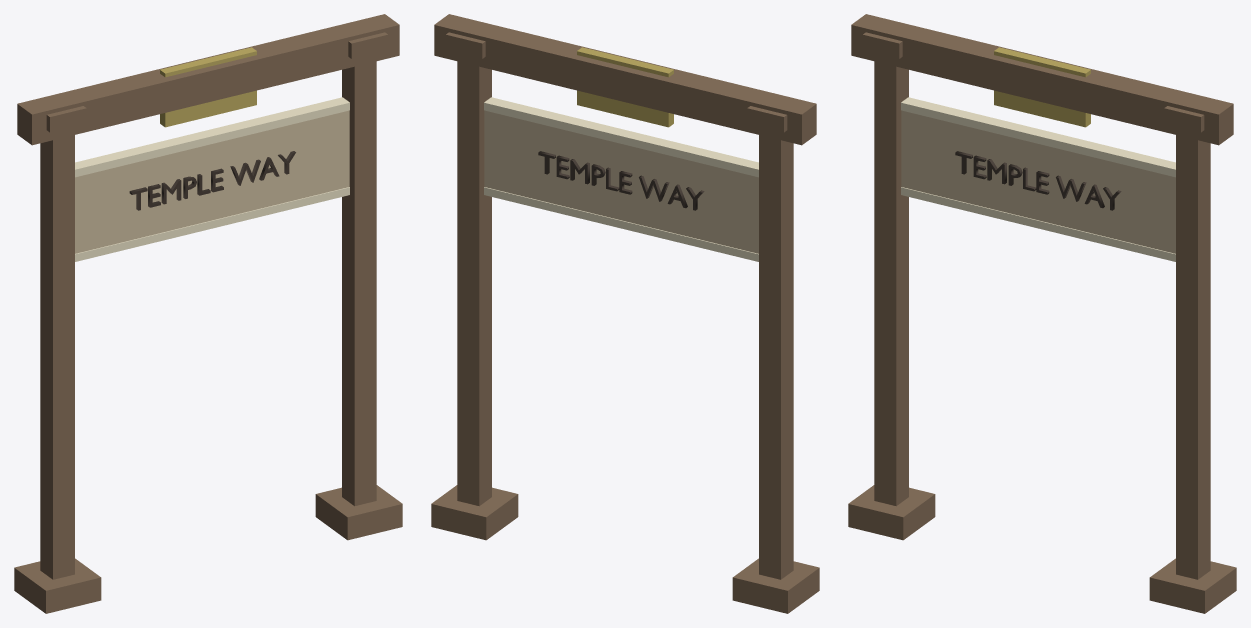
Rendered from prop_ward_temple.glb.
3 views of the same model, side by side, from view 1: azimuth 30°, elevation 25°; view 2: azimuth 150°, elevation 25°; view 3: azimuth 330°, elevation 25° (orthographic).
Parts seen in each view (by area): view 1: prop_ward_sign; view 2: prop_ward_sign; view 3: prop_ward_sign.
Boxes of the visible parts, box(x1,y1,x2,y2) form: prop_ward_sign: box(14, 14, 402, 613); prop_ward_sign: box(431, 14, 819, 613); prop_ward_sign: box(848, 14, 1236, 613).
Size of the model in its own units: 2 by 2.59 by 0.3.
